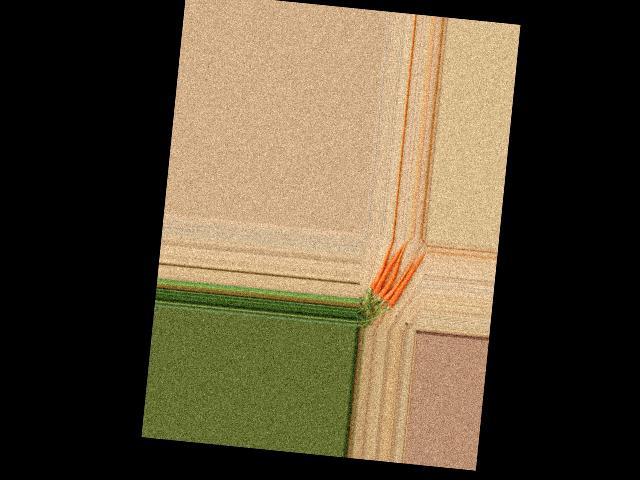carrot: (368, 236, 394, 290)
